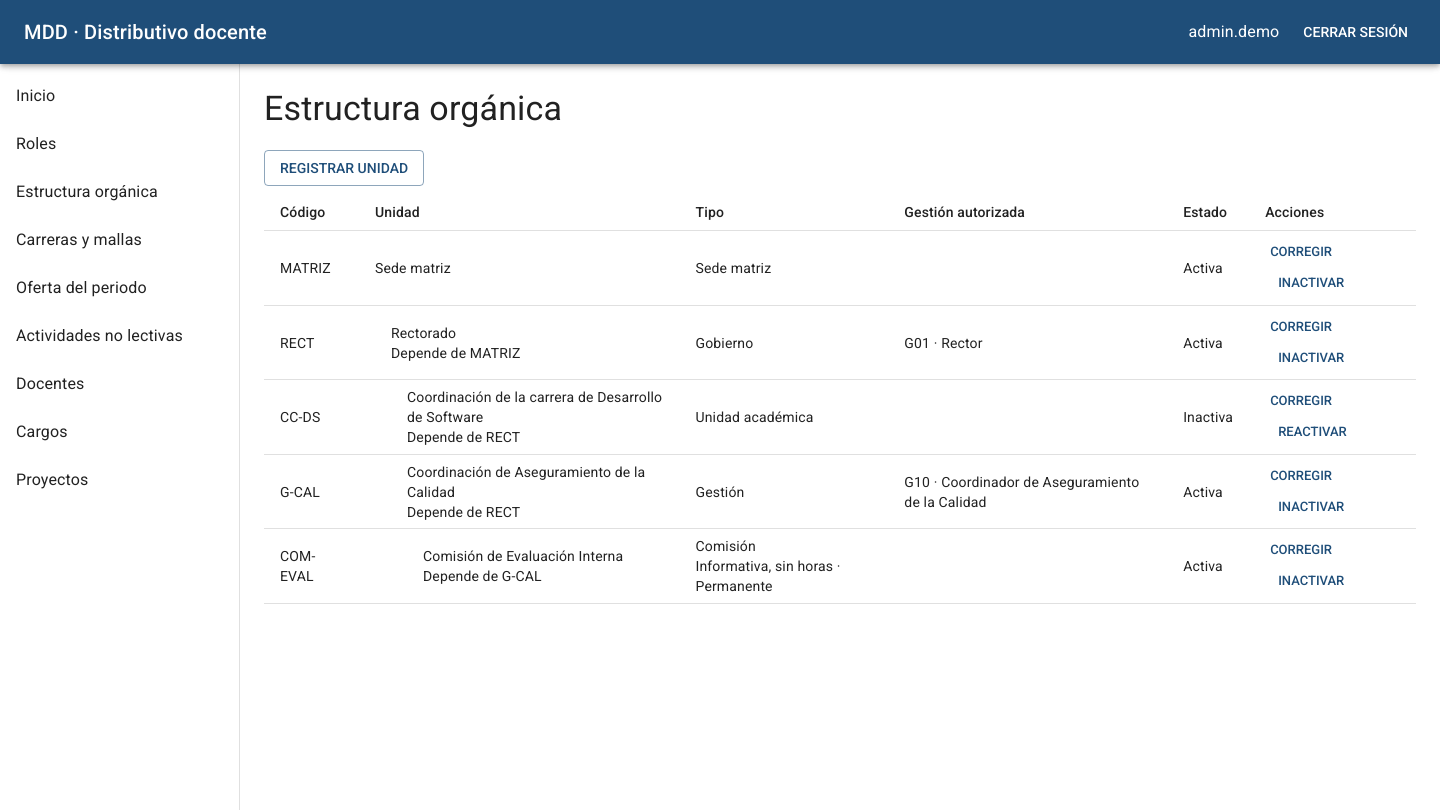
Scenario: Estructura orgánica › inactiva con confirmación, y un 409 se muestra con su título
The image size is (1440, 810).
Click the button with aria-label "Inactivar G-CAL": (1311, 507) [1273,492,1349,522]
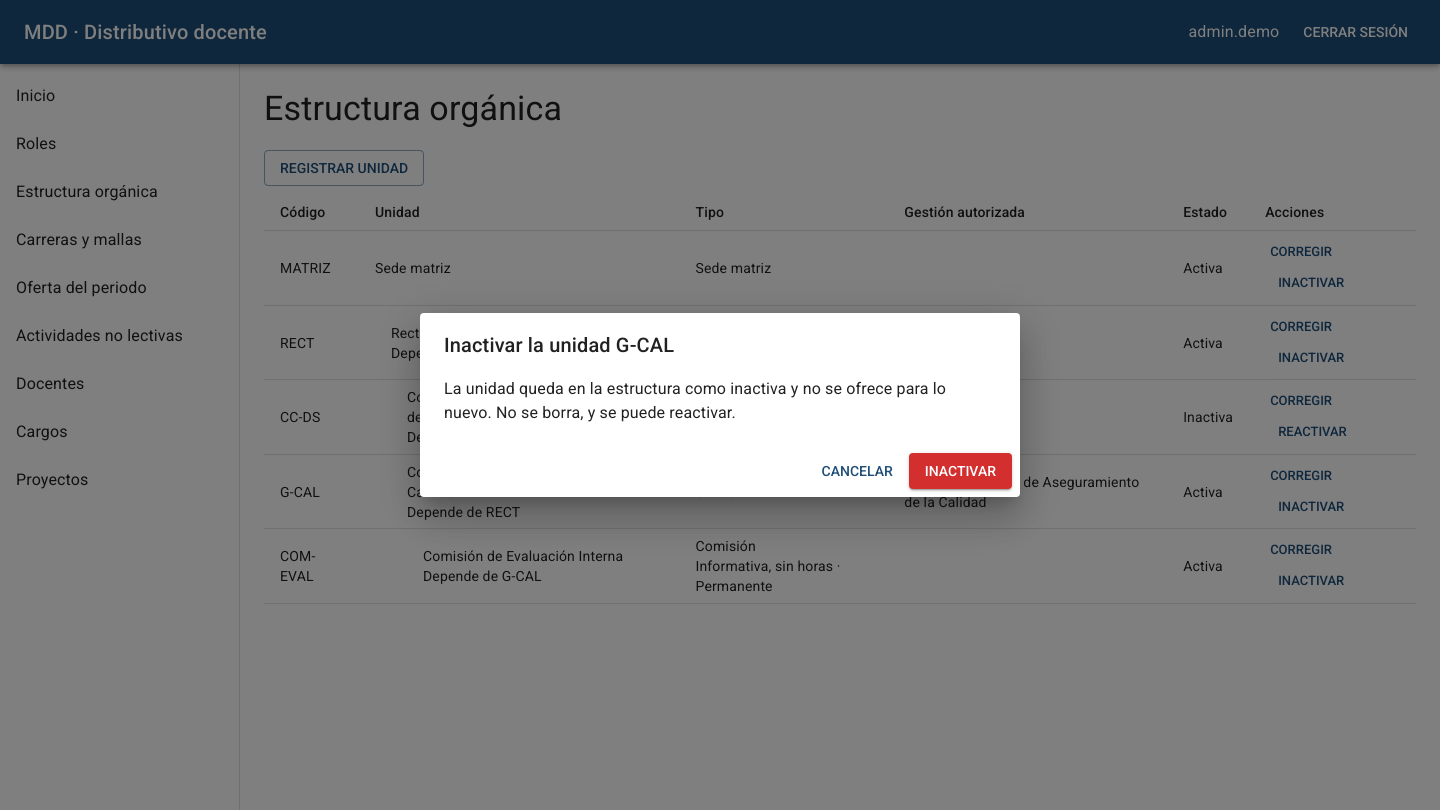
expect the dialog "Inactivar la unidad G-CAL" shows "No se borra": met, box [444,379,946,422]
Click the button "Inactivar": (960, 471) [909,453,1012,489]
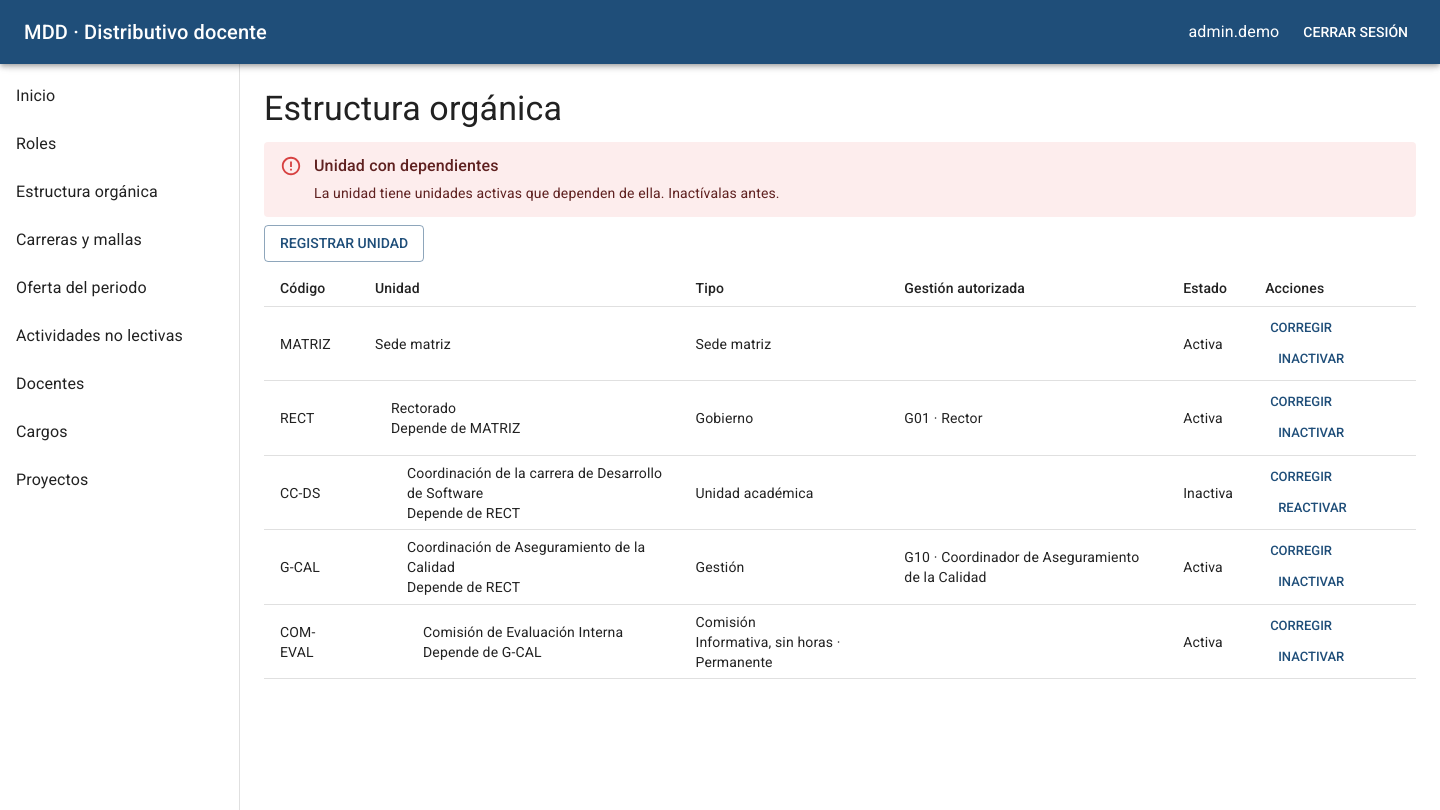
expect the text "Unidad con dependientes" is shown: met, box [314,156,499,175]
